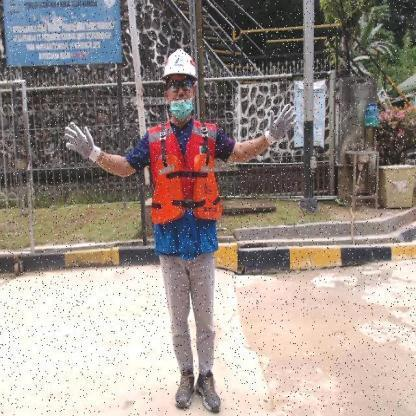boots: (194, 370, 222, 414), (174, 368, 196, 410)
gloves: (64, 122, 102, 166), (264, 102, 298, 148)
goggles: (168, 79, 194, 92)
helmet: (164, 47, 197, 78)
mask: (170, 98, 194, 122)
vest: (150, 154, 222, 224)
